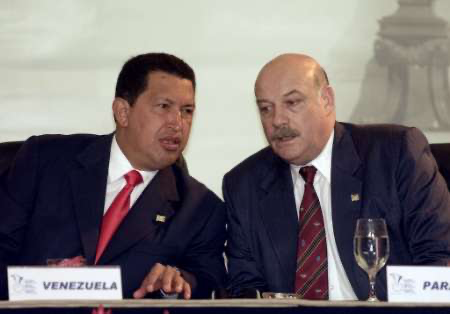Face: (252, 79, 324, 168), (141, 85, 197, 169)
